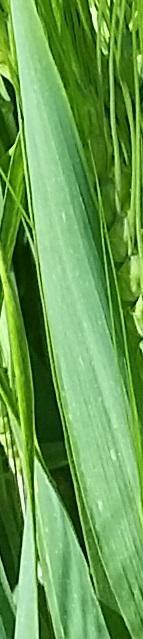Potato: (13, 32, 138, 607)
